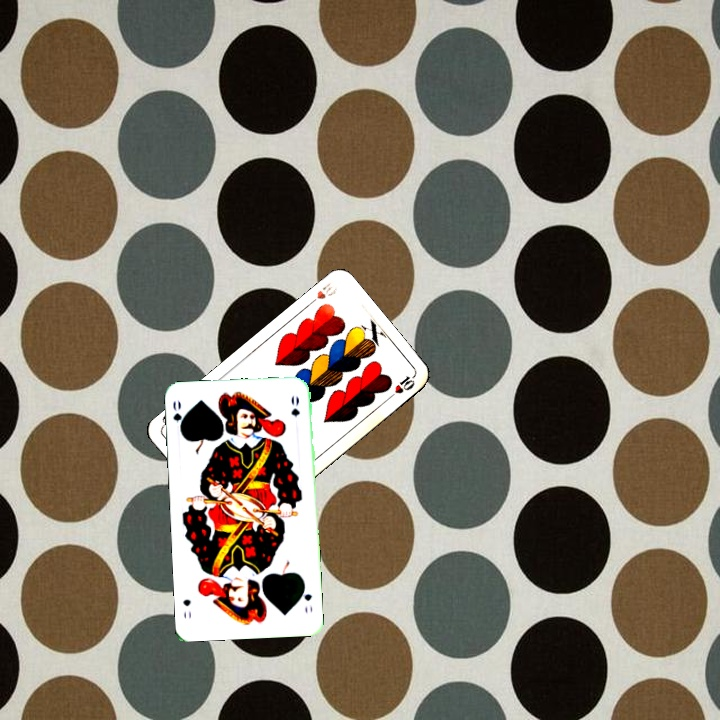GO: (169, 396, 188, 437), (298, 579, 315, 615)
H10: (303, 279, 340, 309)
